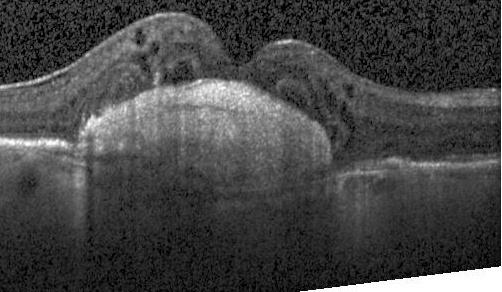intraretinal_cyst: (339, 103, 355, 148), (282, 89, 306, 110), (132, 54, 151, 76), (322, 92, 338, 116), (341, 84, 356, 100), (329, 126, 339, 148), (148, 42, 160, 56), (134, 28, 142, 45)
neuroepithelium_detachment: (164, 60, 196, 83)
subretinal_hyperreflective_material: (77, 79, 332, 189)
